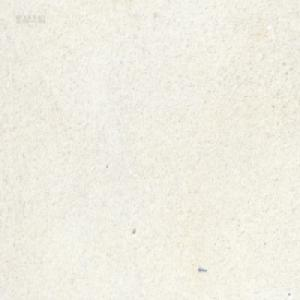Nail: (197, 265, 207, 272)
